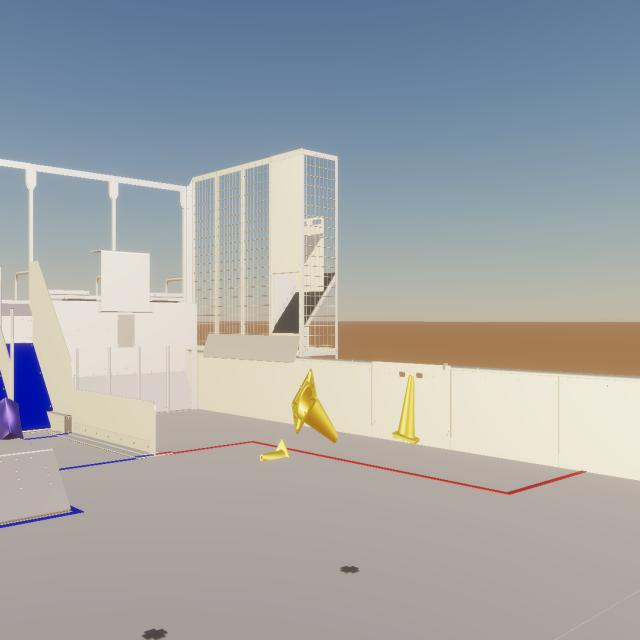frc_cone: (292, 369, 338, 443), (392, 375, 420, 445), (260, 439, 290, 461)
frc_cube: (0, 398, 24, 440)
